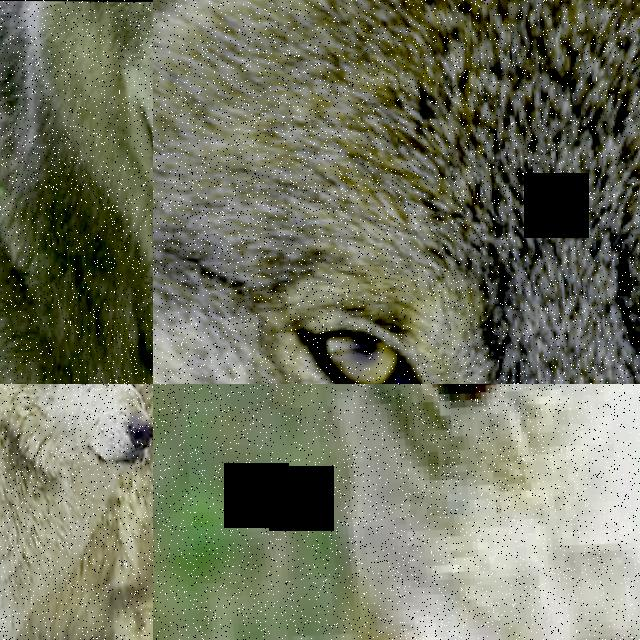dog: (153, 384, 640, 640)
wolf: (153, 0, 640, 384), (0, 0, 153, 384), (0, 384, 153, 640), (44, 384, 153, 640)
